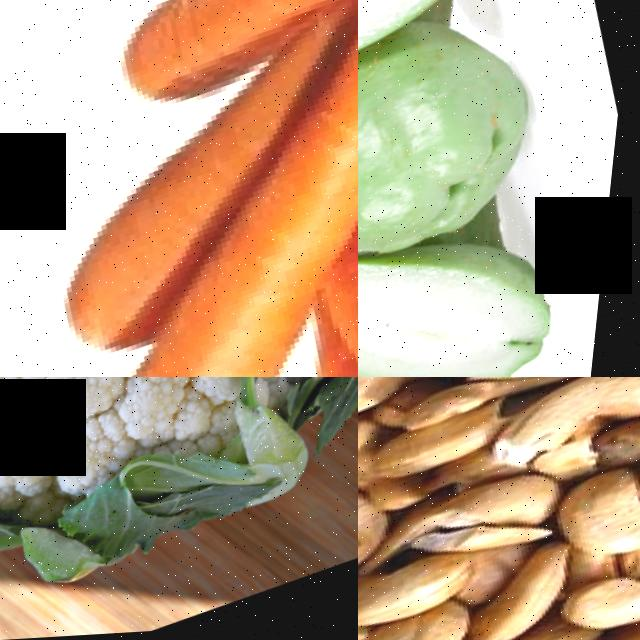carrot: (37, 135, 243, 337), (80, 0, 358, 106)
cashew: (358, 535, 500, 640), (358, 444, 397, 599)
cauliflower: (0, 377, 358, 587)
chayote: (358, 0, 589, 287), (358, 208, 602, 377)
